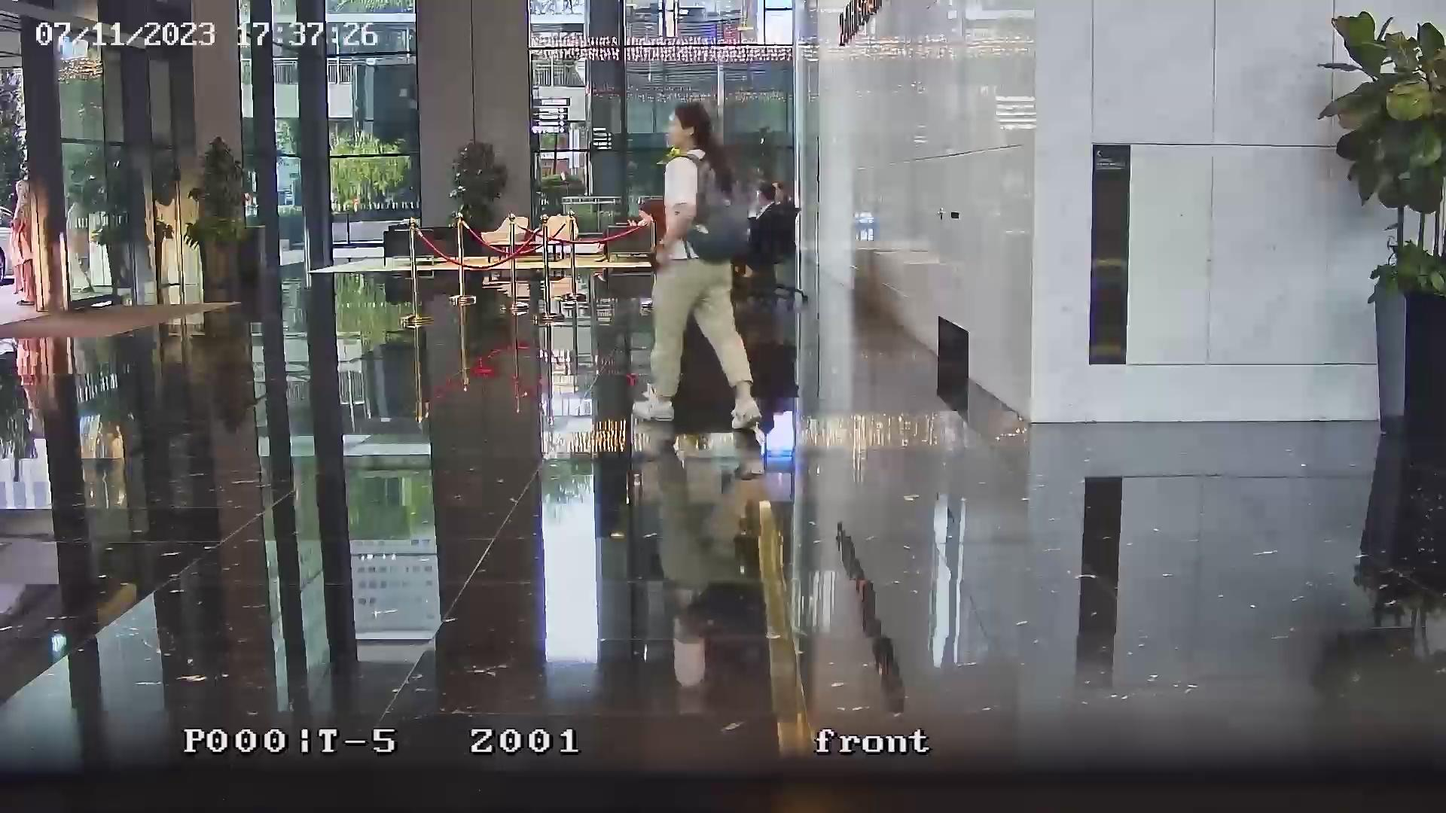person: (632, 99, 763, 434), (593, 204, 650, 264), (758, 181, 800, 262), (12, 181, 38, 308), (68, 183, 96, 293)
